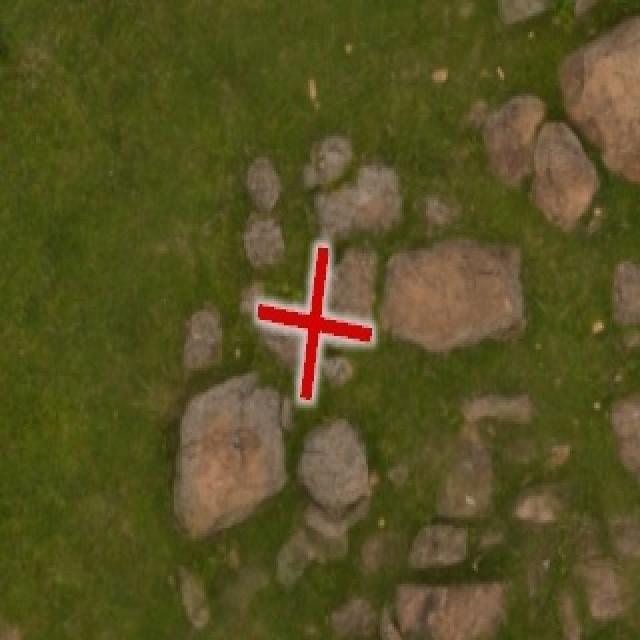x_marker: (257, 244, 371, 399)
